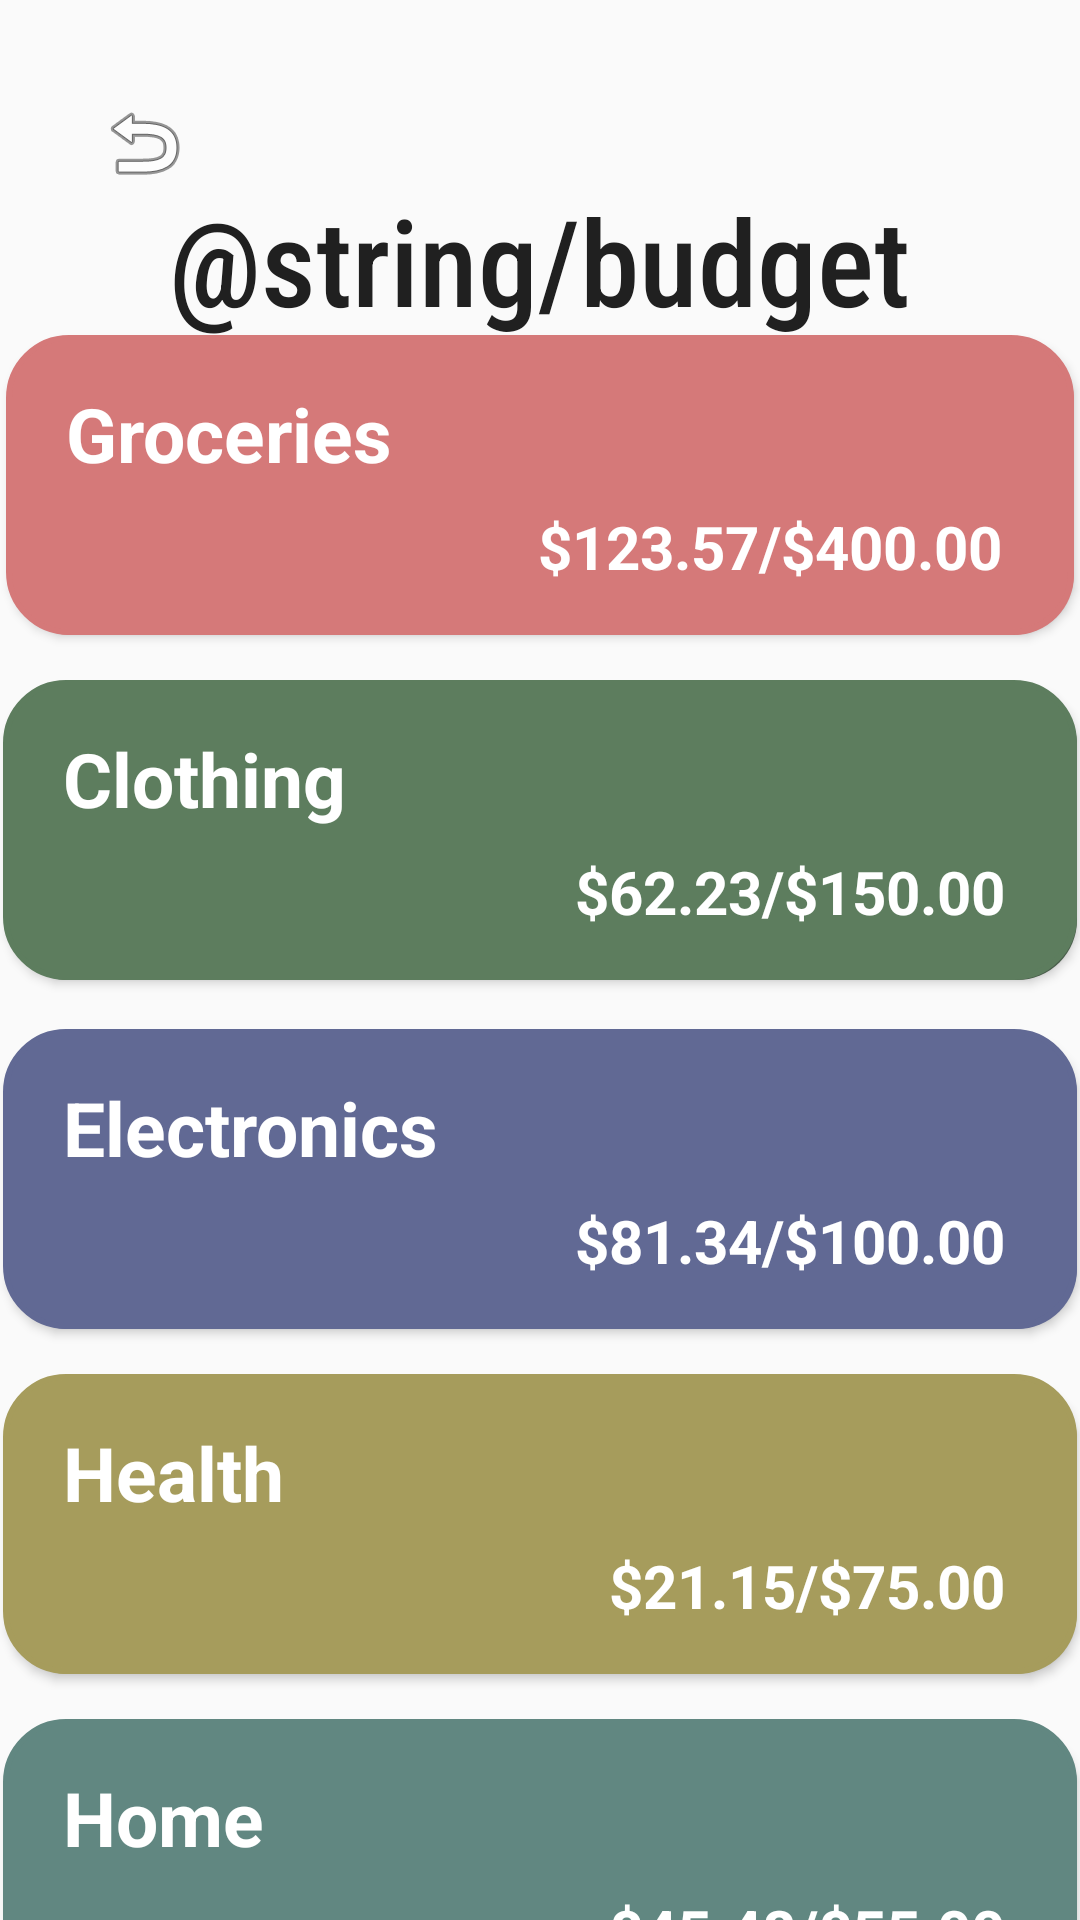

Locate icon controls on the screen. Image size 1080px×1920px, boxes as {"x1": x1, "y1": y1, "x2": x2, "y2": y2}.
revert: {"x1": 111, "y1": 112, "x2": 180, "y2": 175}
